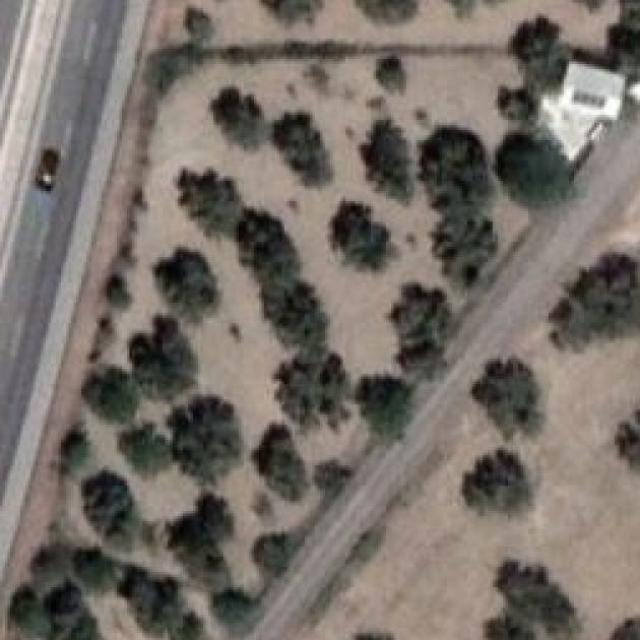Tree: (494, 553, 583, 640), (567, 247, 640, 337), (416, 123, 491, 202), (466, 353, 540, 432), (176, 394, 245, 476), (501, 128, 575, 204), (166, 499, 240, 575), (457, 447, 531, 519), (276, 344, 348, 416), (266, 110, 337, 181), (351, 125, 416, 198), (150, 252, 220, 316), (132, 325, 194, 397), (106, 575, 178, 636), (232, 216, 298, 282), (330, 201, 392, 270), (257, 280, 318, 350), (508, 17, 573, 82), (186, 160, 246, 228), (389, 284, 455, 344), (430, 214, 492, 276), (350, 372, 410, 434), (210, 85, 270, 146), (249, 430, 305, 492), (48, 584, 108, 640), (86, 368, 142, 426), (125, 423, 175, 477), (81, 471, 128, 526), (542, 298, 589, 352), (249, 523, 301, 571), (611, 388, 640, 473), (74, 536, 118, 592), (211, 585, 256, 637), (31, 544, 73, 596), (10, 582, 51, 634), (350, 0, 419, 30), (498, 77, 542, 119), (313, 458, 353, 499), (54, 425, 93, 464), (482, 609, 531, 640), (262, 0, 326, 21), (376, 54, 408, 94), (178, 3, 214, 38), (599, 609, 639, 640), (352, 620, 398, 640)
